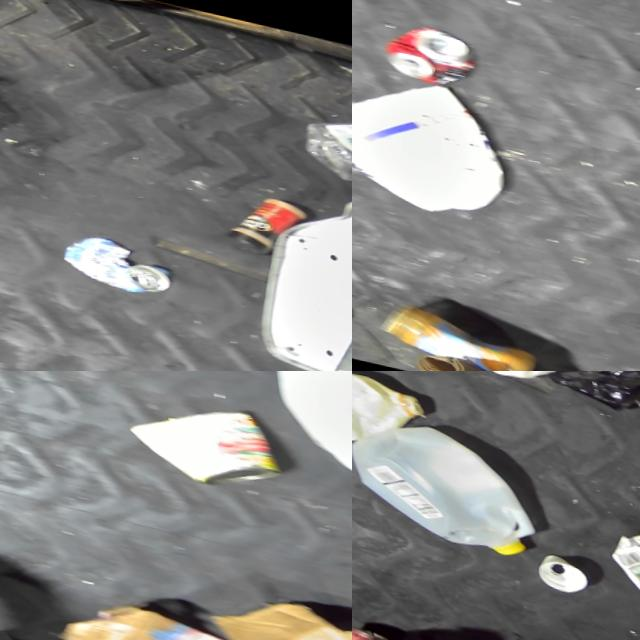can: (115, 376, 294, 492), (46, 215, 179, 303), (376, 17, 473, 85)
milk_jug: (352, 406, 539, 558), (246, 371, 352, 484), (352, 371, 434, 466)
plastic_bottle: (283, 83, 352, 198)
